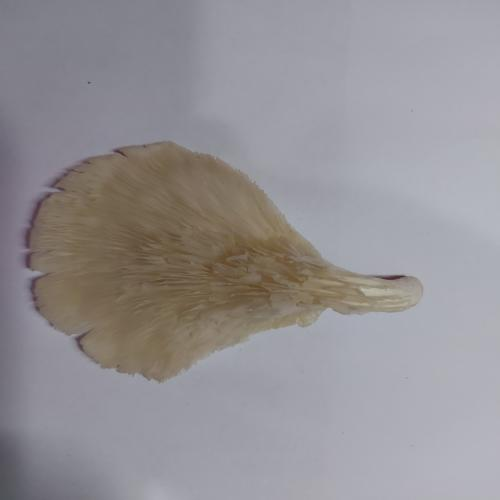Oyster Mushroom: (23, 140, 424, 384)
